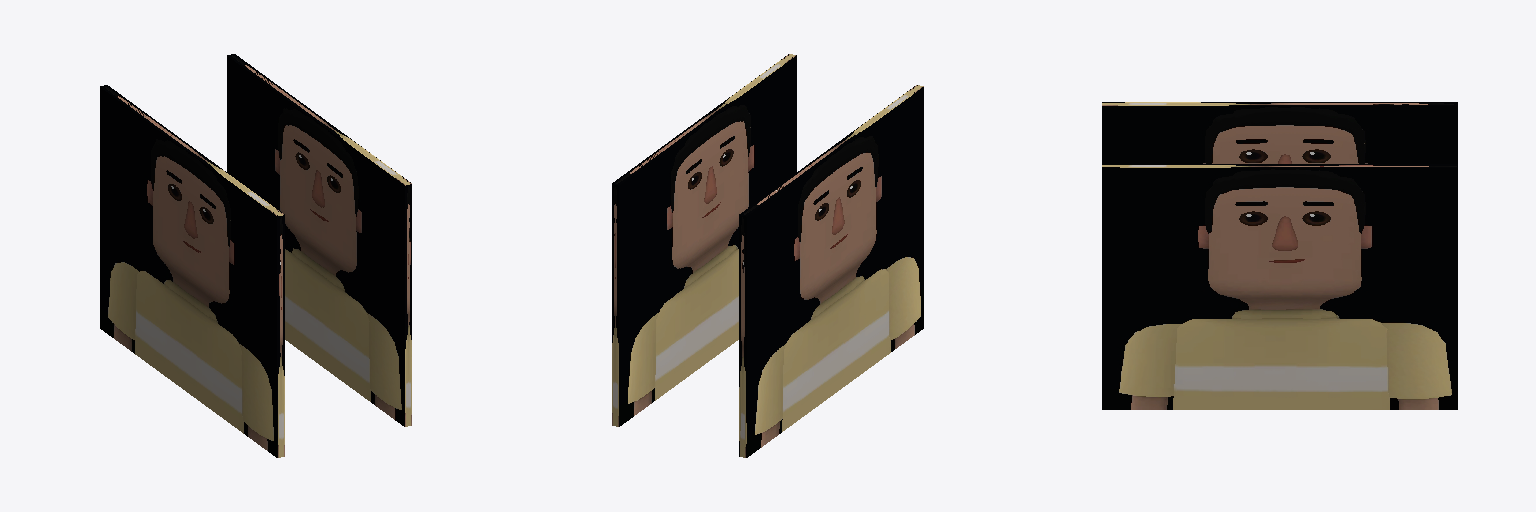
The picture shows the model from 3 angles: view 1: azimuth 30°, elevation 25°; view 2: azimuth 150°, elevation 25°; view 3: azimuth 270°, elevation 25°; orthographic projection.
Size of the model in its own units: 21.22 by 36.23 by 48.34.
Materials: 1 (1 with a texture image).